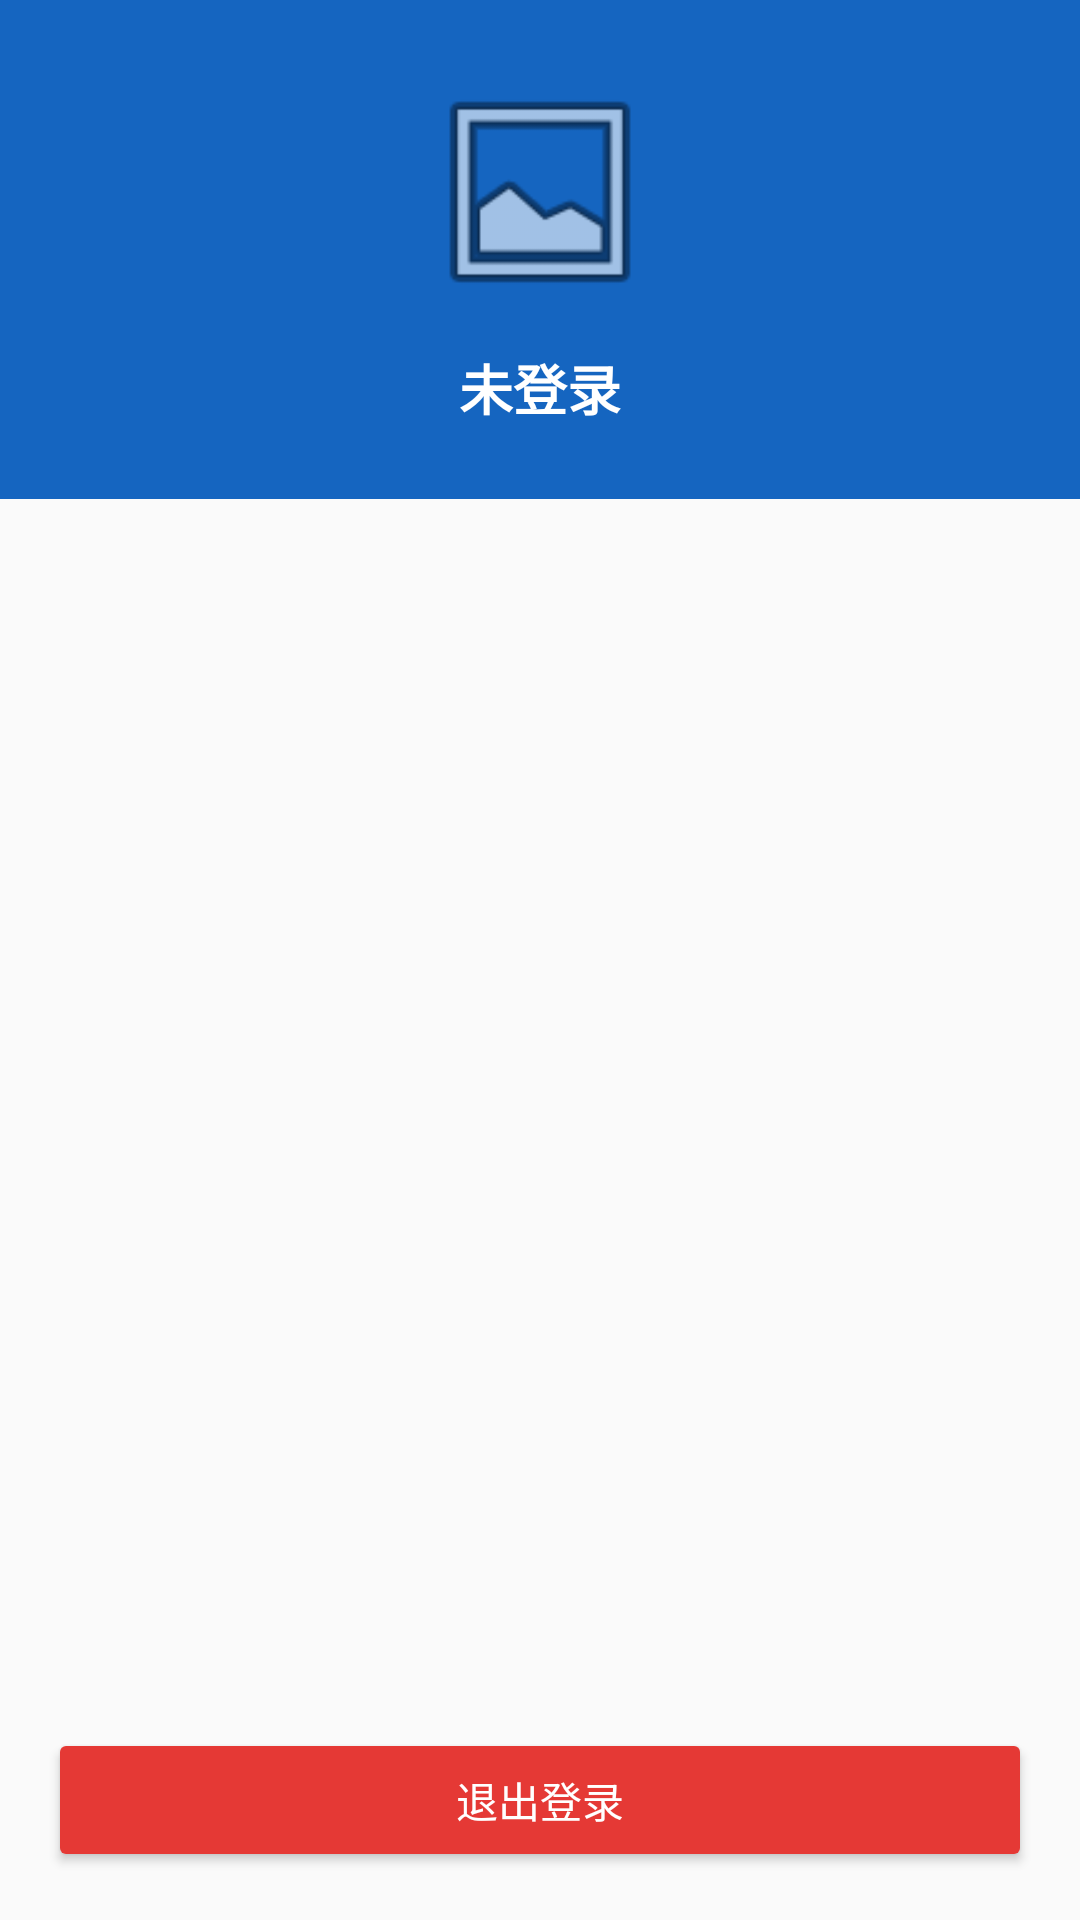

Named icons in this screenshot (1080 × 1920) and their centers, [x,y]:
gallery: [540,192]
